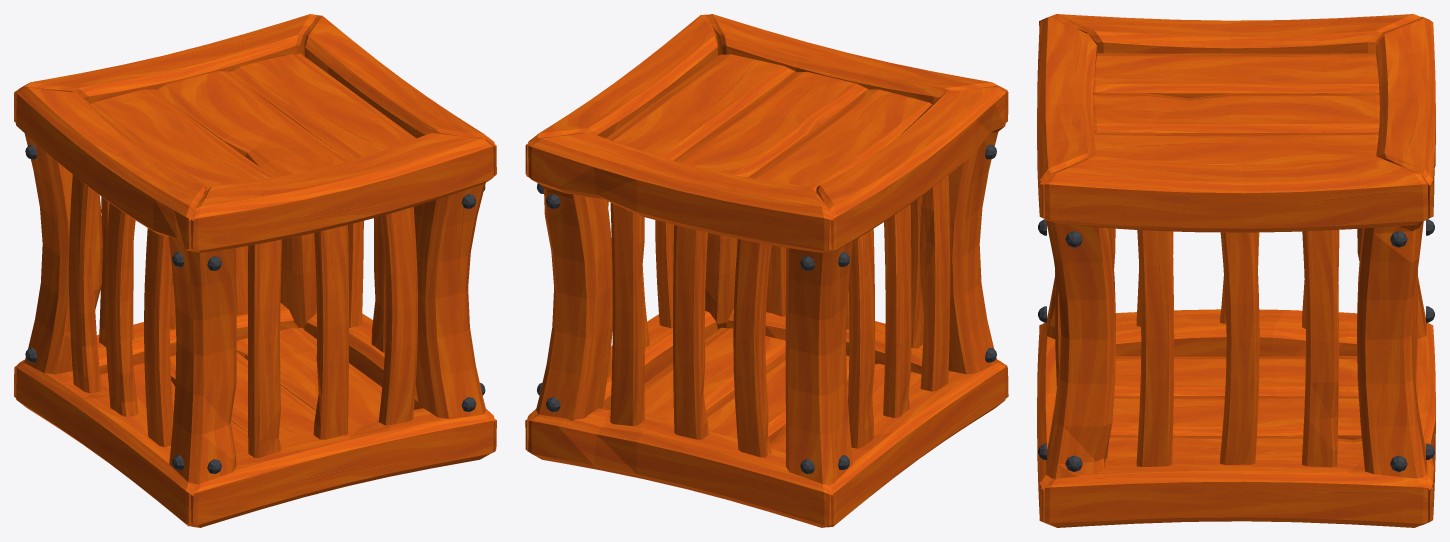
The model's file is multihit-cage.glb.
The picture shows the model from 3 angles, left to right: view 1: azimuth 30°, elevation 25°; view 2: azimuth 150°, elevation 25°; view 3: azimuth 270°, elevation 25°; orthographic projection. The views are drawn at different scales.
Visible parts, largest first — view 1: Upper rail 0, Lower rail 0, Corner post -1 1, Upper rail 3, Corner post 1 1, Lower rail 3, Lid plank 0, Lid plank 1, Corner post -1 -1, Upper rail 2, Lid plank -1, Upper rail 1 (+16 smaller); view 2: Upper rail 2, Lower rail 2, Corner post -1 -1, Corner post 1 -1, Upper rail 3, Lower rail 3, Lid plank 0, Lid plank 1, Corner post -1 1, Upper rail 0, Lid plank -1, Upper rail 1 (+15 smaller); view 3: Upper rail 1, Lower rail 1, Corner post 1 -1, Corner post 1 1, Lid plank -1, Lid plank 0, Upper rail 3, Upper rail 2, Upper rail 0, Lid plank 1, Slat 1 1, Slat 1 -1 (+11 smaller).
Boxes of the visible parts, box(x1,y1,x2,y2) form: Upper rail 0: box(188, 132, 496, 252); Lower rail 0: box(188, 408, 496, 527); Corner post -1 1: box(168, 236, 236, 484); Upper rail 3: box(15, 86, 206, 250); Corner post 1 1: box(414, 182, 486, 419); Lower rail 3: box(15, 363, 195, 526); Lid plank 0: box(156, 71, 349, 177); Lid plank 1: box(229, 53, 416, 160); Corner post -1 -1: box(24, 133, 102, 374); Upper rail 2: box(14, 14, 317, 122); Lid plank -1: box(90, 89, 274, 190); Upper rail 1: box(304, 15, 495, 176); Upper rail 2: box(525, 132, 833, 252); Lower rail 2: box(525, 408, 833, 527); Corner post -1 -1: box(785, 241, 853, 484); Corner post 1 -1: box(536, 183, 612, 421); Upper rail 3: box(816, 85, 1007, 252); Lower rail 3: box(827, 360, 1007, 527); Lid plank 0: box(673, 71, 868, 177); Lid plank 1: box(606, 54, 795, 160); Corner post -1 1: box(919, 132, 998, 374); Upper rail 0: box(706, 14, 1008, 122); Lid plank -1: box(748, 89, 931, 191); Upper rail 1: box(526, 14, 718, 176); Upper rail 1: box(1039, 156, 1433, 232); Lower rail 1: box(1039, 454, 1433, 527); Corner post 1 -1: box(1357, 219, 1434, 478); Corner post 1 1: box(1038, 219, 1115, 479); Lid plank -1: box(1093, 53, 1379, 98); Lid plank 0: box(1093, 92, 1379, 133); Upper rail 3: box(1039, 14, 1421, 53); Upper rail 2: box(1376, 16, 1435, 220); Upper rail 0: box(1037, 17, 1096, 221); Lid plank 1: box(1094, 132, 1378, 165); Slat 1 1: box(1302, 230, 1338, 467); Slat 1 -1: box(1136, 230, 1174, 466).
Size of the model in its own units: 1.01 by 0.9963 by 1.01.
Materials: 1 (1 with a texture image).
